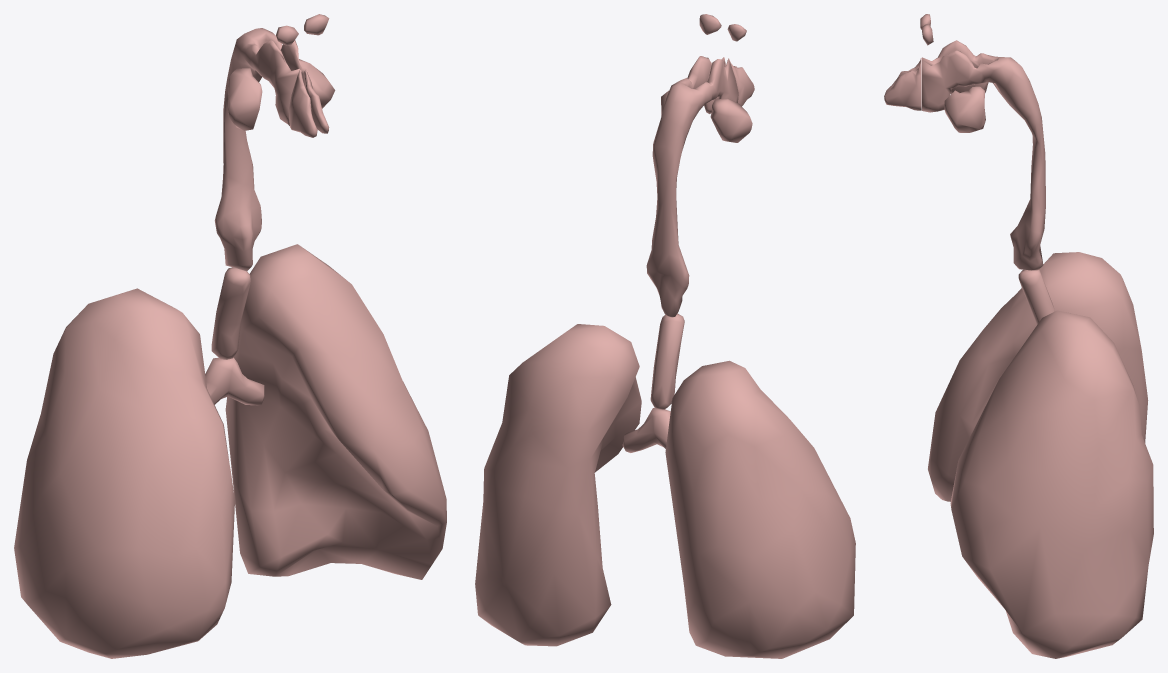
Rendered from pediatric_adolescent_male.respiratory.LOD2.glb.
3 views of the same model, side by side, from view 1: azimuth 30°, elevation 25°; view 2: azimuth 150°, elevation 25°; view 3: azimuth 270°, elevation 25° (orthographic). The views are drawn at different scales.
Parts seen in each view (by area): view 1: PEDIATRIC.ADOLESCENT.MALE.RESPIRATORY.LUNG.R, PEDIATRIC.ADOLESCENT.MALE.RESPIRATORY.LUNG.L, PEDIATRIC.ADOLESCENT.MALE.RESPIRATORY.ET2, PEDIATRIC.ADOLESCENT.MALE.RESPIRATORY.TRACHEA, PEDIATRIC.ADOLESCENT.MALE.RESPIRATORY.BB1, PEDIATRIC.ADOLESCENT.MALE.RESPIRATORY.ET1; view 2: PEDIATRIC.ADOLESCENT.MALE.RESPIRATORY.LUNG.R, PEDIATRIC.ADOLESCENT.MALE.RESPIRATORY.LUNG.L, PEDIATRIC.ADOLESCENT.MALE.RESPIRATORY.ET2, PEDIATRIC.ADOLESCENT.MALE.RESPIRATORY.TRACHEA, PEDIATRIC.ADOLESCENT.MALE.RESPIRATORY.BB1, PEDIATRIC.ADOLESCENT.MALE.RESPIRATORY.ET1; view 3: PEDIATRIC.ADOLESCENT.MALE.RESPIRATORY.LUNG.L, PEDIATRIC.ADOLESCENT.MALE.RESPIRATORY.LUNG.R, PEDIATRIC.ADOLESCENT.MALE.RESPIRATORY.ET2, PEDIATRIC.ADOLESCENT.MALE.RESPIRATORY.ET1, PEDIATRIC.ADOLESCENT.MALE.RESPIRATORY.TRACHEA.
Part boxes in pixels (x1,y1,x2,y2): PEDIATRIC.ADOLESCENT.MALE.RESPIRATORY.LUNG.R: (14,288,234,658); PEDIATRIC.ADOLESCENT.MALE.RESPIRATORY.LUNG.L: (225,244,446,579); PEDIATRIC.ADOLESCENT.MALE.RESPIRATORY.ET2: (214,14,335,271); PEDIATRIC.ADOLESCENT.MALE.RESPIRATORY.TRACHEA: (211,267,250,359); PEDIATRIC.ADOLESCENT.MALE.RESPIRATORY.BB1: (205,357,264,405); PEDIATRIC.ADOLESCENT.MALE.RESPIRATORY.ET1: (288,68,329,137); PEDIATRIC.ADOLESCENT.MALE.RESPIRATORY.LUNG.R: (665,360,855,658); PEDIATRIC.ADOLESCENT.MALE.RESPIRATORY.LUNG.L: (475,324,641,646); PEDIATRIC.ADOLESCENT.MALE.RESPIRATORY.ET2: (646,14,752,317); PEDIATRIC.ADOLESCENT.MALE.RESPIRATORY.TRACHEA: (650,313,684,409); PEDIATRIC.ADOLESCENT.MALE.RESPIRATORY.BB1: (622,408,670,452); PEDIATRIC.ADOLESCENT.MALE.RESPIRATORY.ET1: (724,57,754,106); PEDIATRIC.ADOLESCENT.MALE.RESPIRATORY.LUNG.L: (950,310,1153,658); PEDIATRIC.ADOLESCENT.MALE.RESPIRATORY.LUNG.R: (928,252,1148,501); PEDIATRIC.ADOLESCENT.MALE.RESPIRATORY.ET2: (920,14,1045,270); PEDIATRIC.ADOLESCENT.MALE.RESPIRATORY.ET1: (884,58,921,110); PEDIATRIC.ADOLESCENT.MALE.RESPIRATORY.TRACHEA: (1018,269,1054,325).
Bounding box in the file's own units: 0.2581 × 0.409 × 0.177.
